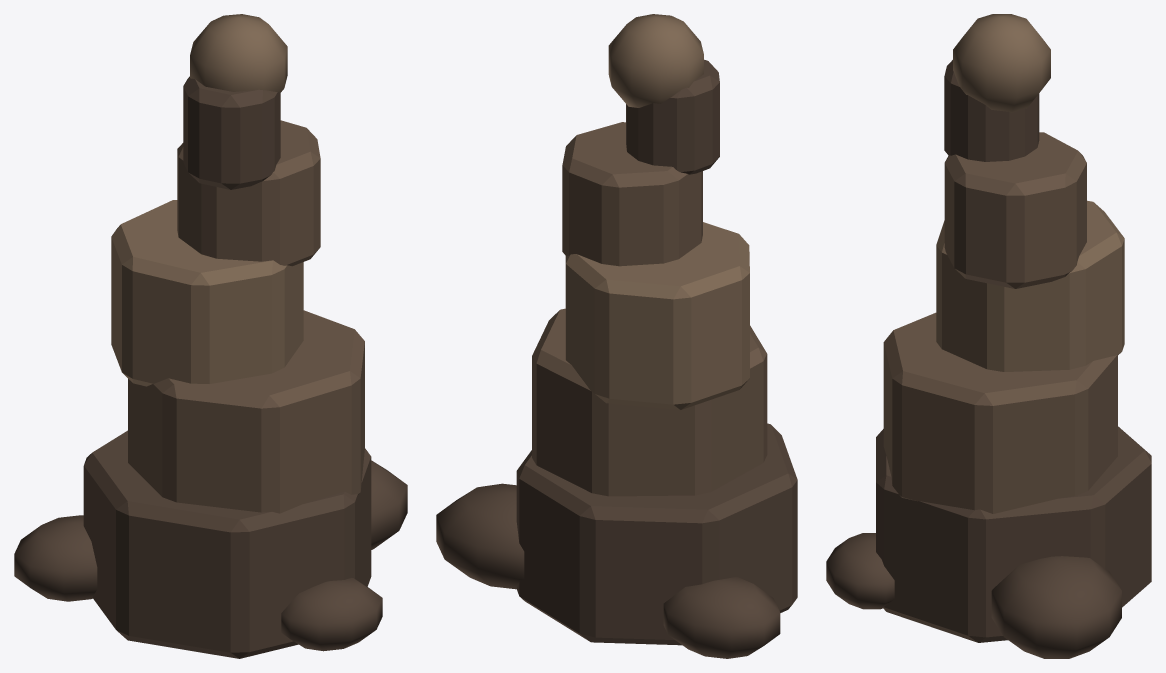
Rendered from env_spire.glb.
3 renders of one model, left to right at view 1: azimuth 30°, elevation 25°; view 2: azimuth 150°, elevation 25°; view 3: azimuth 270°, elevation 25°, orthographic. The views are drawn at different scales.
Visible parts, largest first — view 1: Cylinder, Cylinder.001, Cylinder.002, Cylinder.003, Cylinder.004, Sphere, Sphere.002, Sphere.003, Sphere.001; view 2: Cylinder, Cylinder.002, Cylinder.001, Cylinder.003, Sphere.002, Sphere.001, Cylinder.004, Sphere; view 3: Cylinder.001, Cylinder, Cylinder.002, Cylinder.003, Sphere.001, Sphere, Cylinder.004, Sphere.003.
Part boxes in pixels (x1,y1,x2,y2): Cylinder: (83, 430, 371, 658); Cylinder.001: (128, 310, 364, 513); Cylinder.002: (111, 200, 303, 386); Cylinder.003: (177, 120, 320, 266); Cylinder.004: (183, 76, 280, 189); Sphere: (190, 14, 287, 93); Sphere.002: (14, 515, 97, 601); Sphere.003: (281, 578, 382, 651); Sphere.001: (371, 460, 407, 549); Cylinder: (516, 423, 797, 645); Cylinder.002: (565, 222, 749, 410); Cylinder.001: (532, 308, 767, 496); Cylinder.003: (562, 122, 702, 266); Sphere.002: (663, 577, 780, 658); Sphere.001: (436, 483, 524, 589); Cylinder.004: (626, 59, 719, 174); Sphere: (608, 14, 703, 107); Cylinder.001: (883, 312, 1117, 513); Cylinder: (876, 426, 1151, 642); Cylinder.002: (936, 200, 1124, 371); Cylinder.003: (944, 132, 1086, 288); Sphere.001: (991, 556, 1121, 658); Sphere: (953, 14, 1050, 112); Cylinder.004: (944, 60, 1039, 161); Sphere.003: (826, 533, 894, 609).
Size of the model in its own units: 1.17 by 1.84 by 0.9501.
